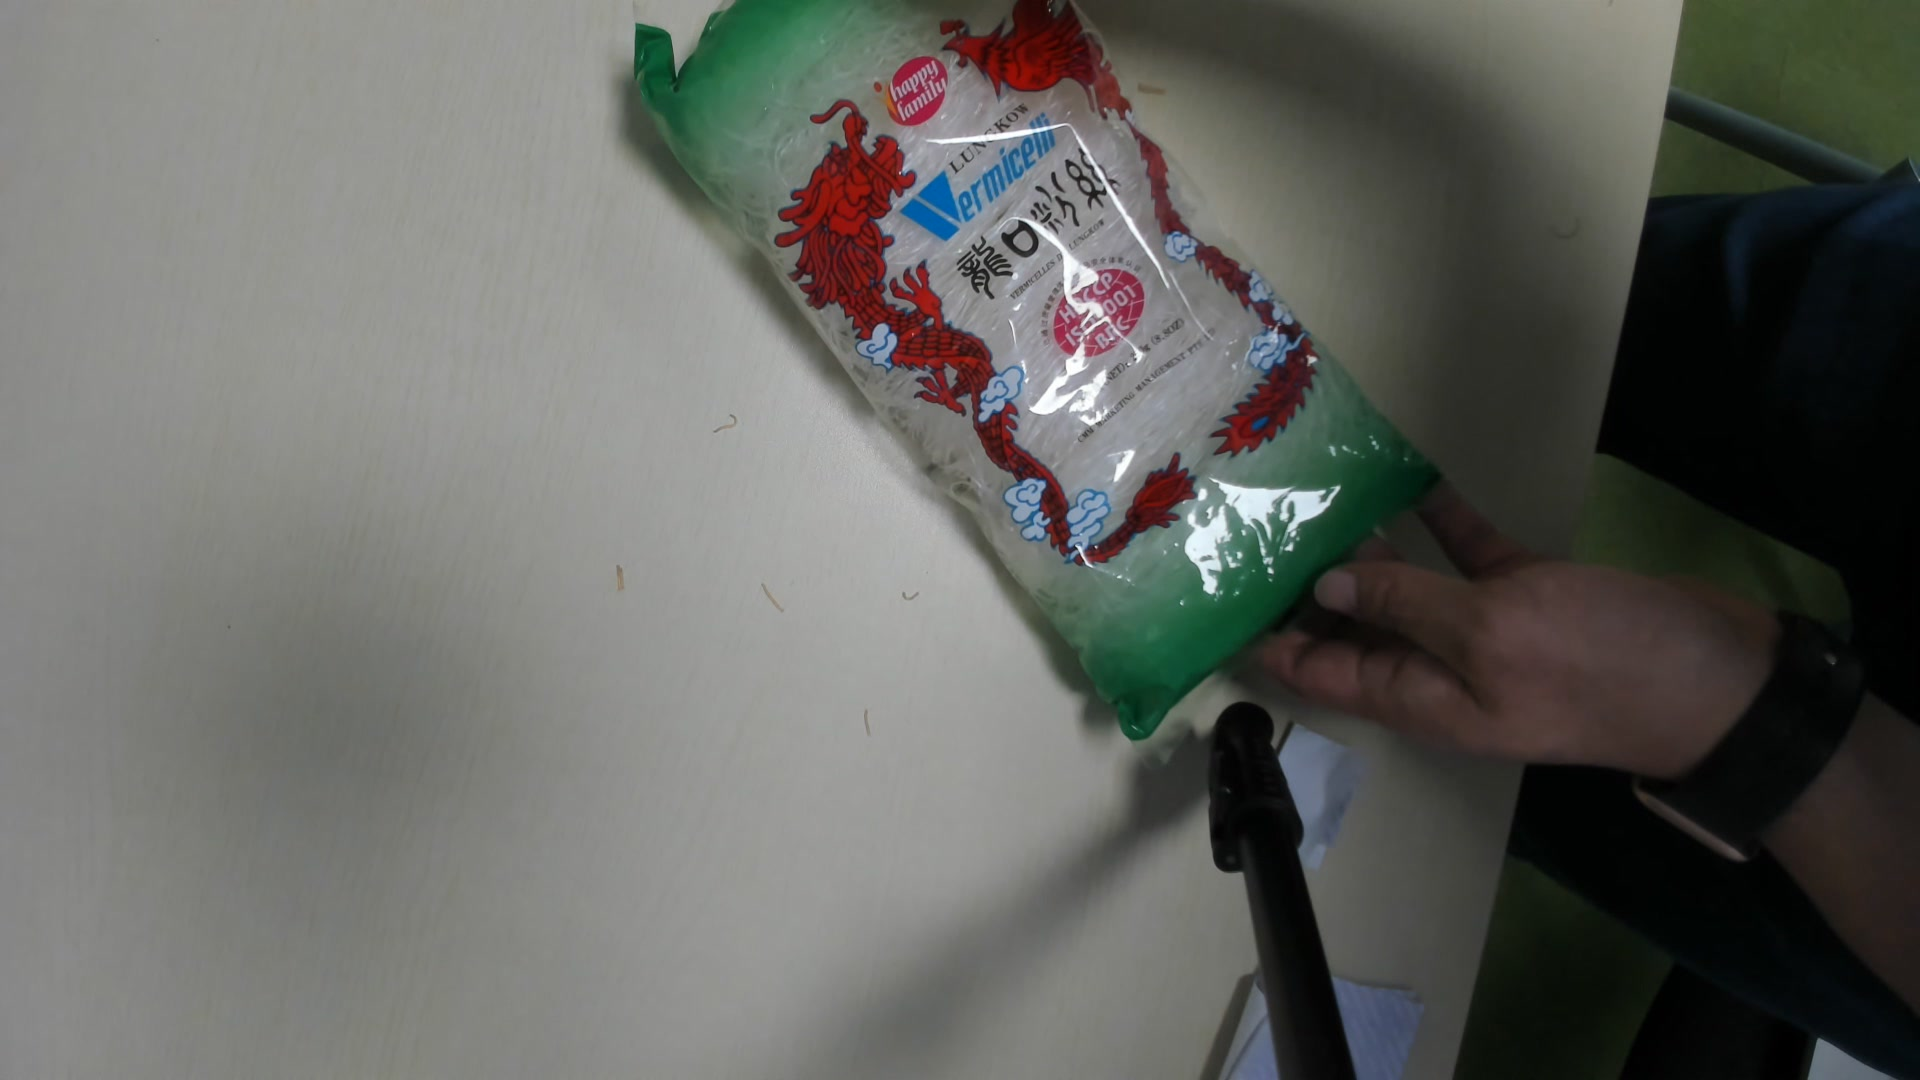BeeHoonVermicelli_200-299g_Halal_NonHealthy: (628, 1, 1419, 746)
